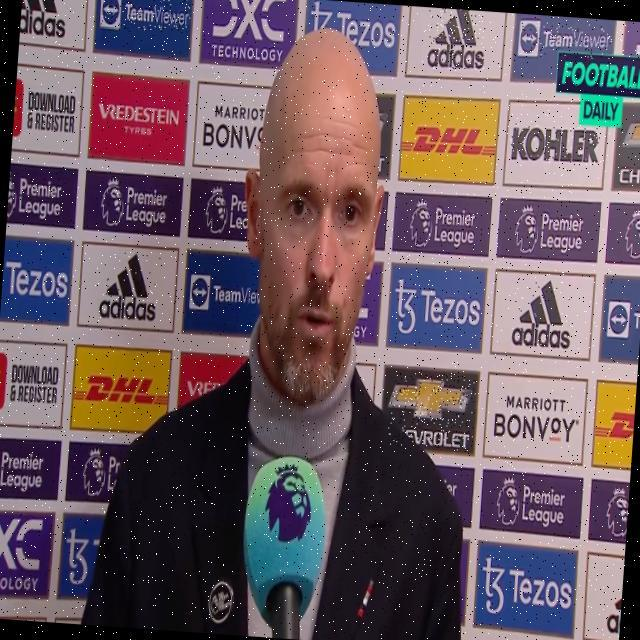Adidas: (511, 277, 576, 351), (99, 250, 162, 324), (425, 7, 487, 72)
Chevrolet: (387, 371, 477, 451)
Kohler: (509, 122, 600, 166)
TeamViewer: (519, 20, 612, 62), (99, 0, 191, 33)
